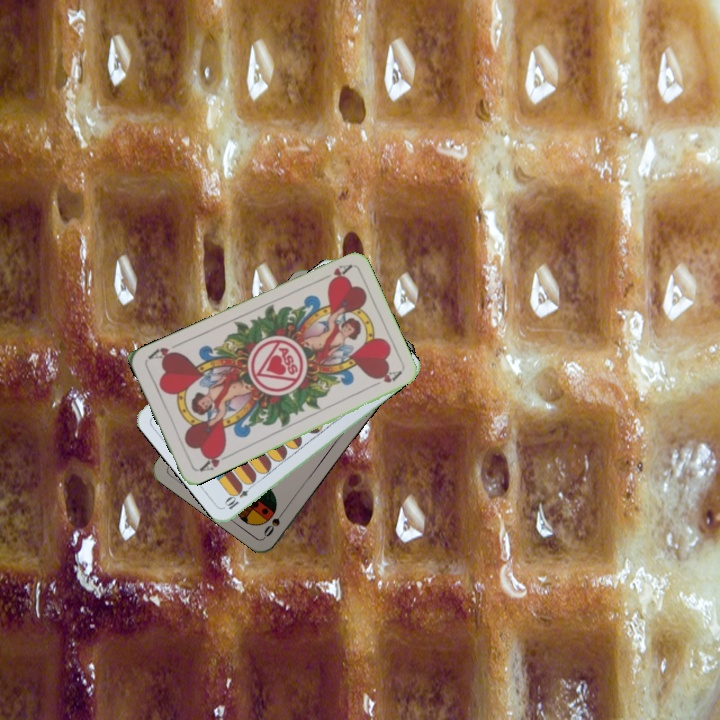E10: (221, 479, 256, 512)
HA: (195, 445, 233, 474), (315, 260, 354, 286)
SO: (259, 504, 289, 539)
